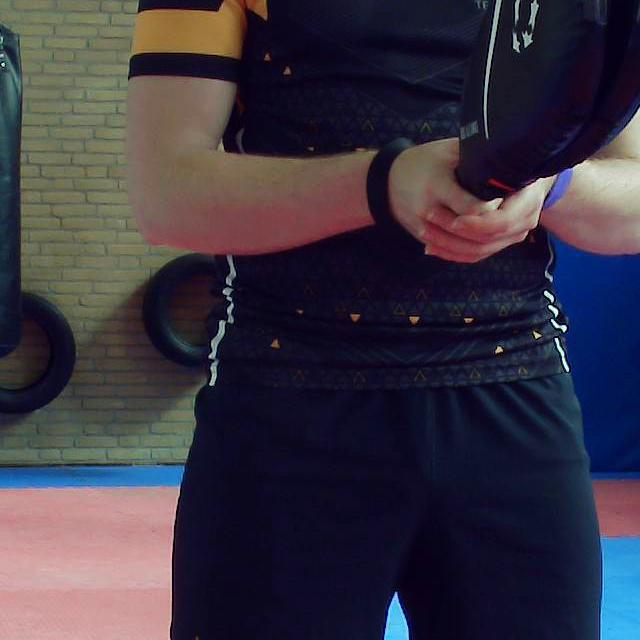paddle: (458, 0, 640, 194)
